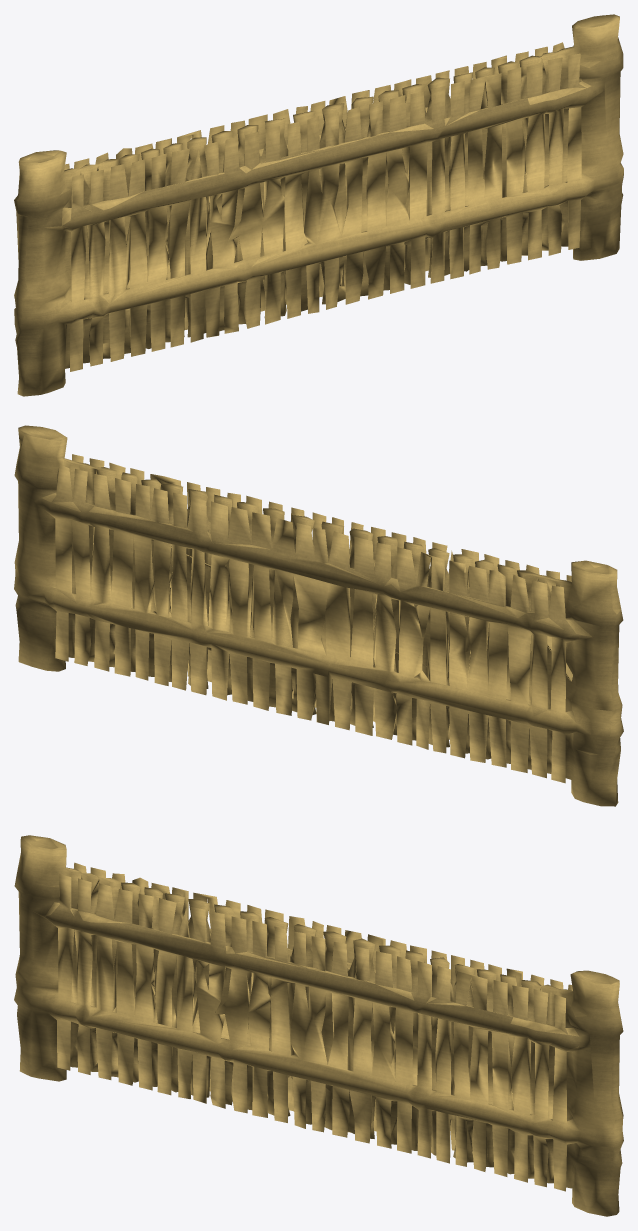
File: bamboo_fence.glb
3 views of the same model, one above another, from view 1: azimuth 30°, elevation 25°; view 2: azimuth 150°, elevation 25°; view 3: azimuth 330°, elevation 25° (orthographic).
Parts seen in each view (by area): view 1: bamboo_fence; view 2: bamboo_fence; view 3: bamboo_fence.
Boxes of the visible parts, bbox=[...] form: bamboo_fence: bbox=[14, 14, 623, 396]; bamboo_fence: bbox=[14, 425, 623, 806]; bamboo_fence: bbox=[14, 835, 623, 1216].
Bounding box in the file's own units: 2.99 × 1.1 × 0.1989.
Materials: 1 (1 with a texture image).
